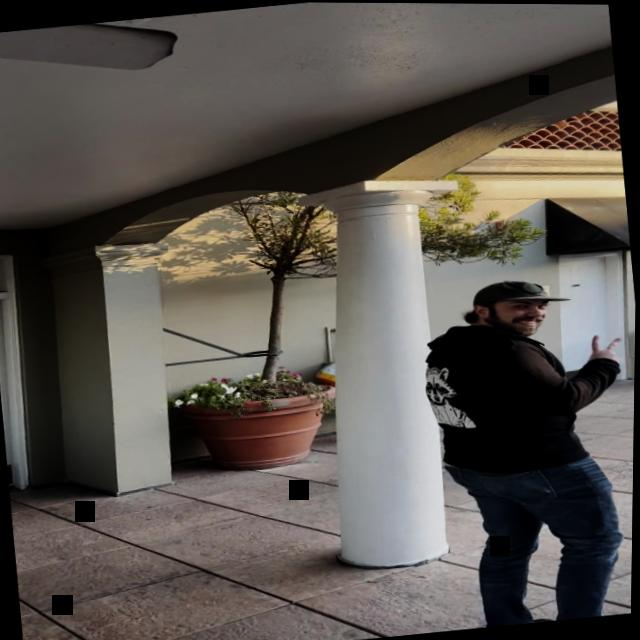NO-Mask: (491, 291, 550, 339)
